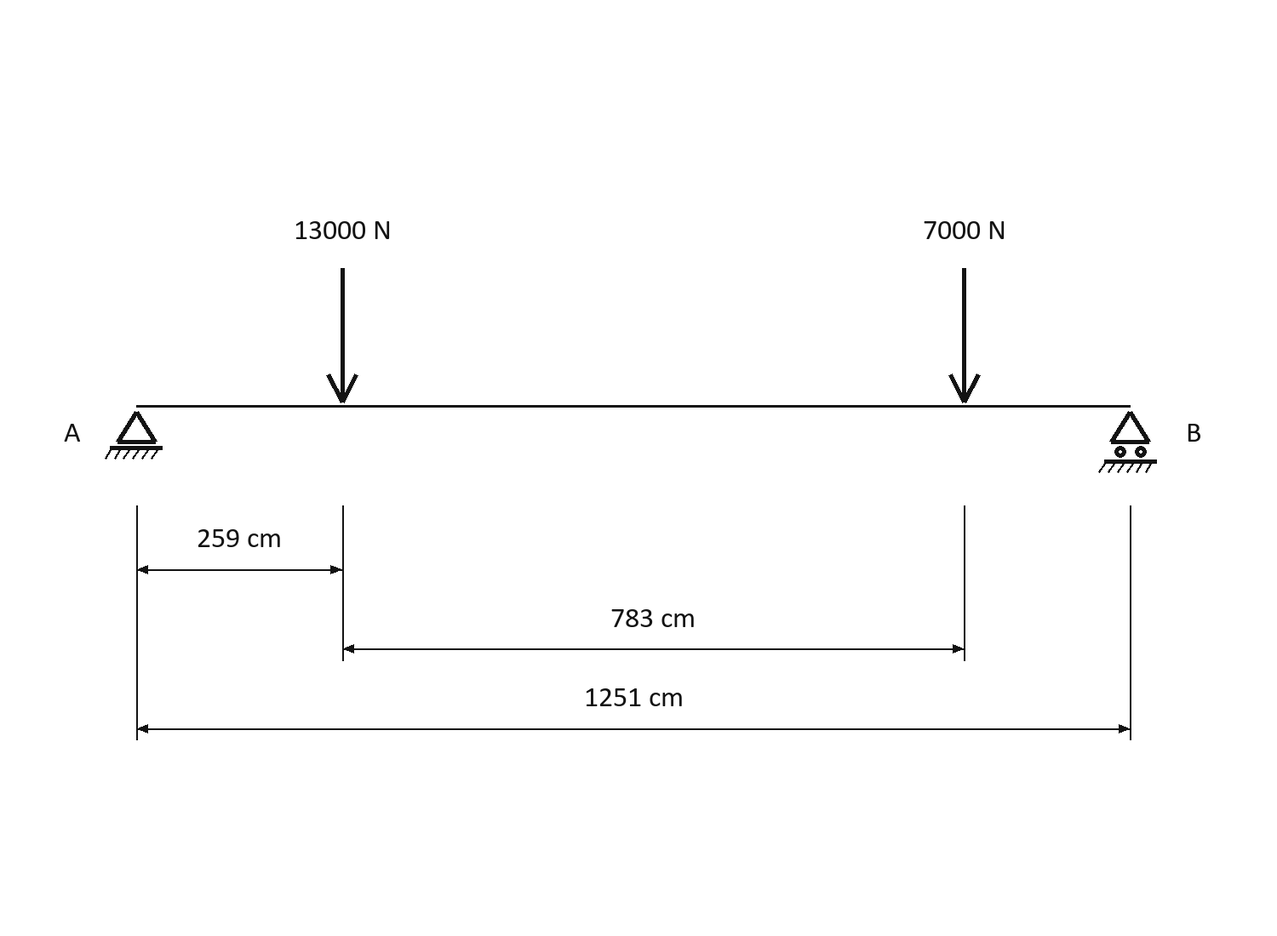pin_support: (105, 411, 163, 459)
point_load: (948, 268, 981, 403), (326, 268, 358, 403)
roller_support: (1098, 411, 1157, 473)
